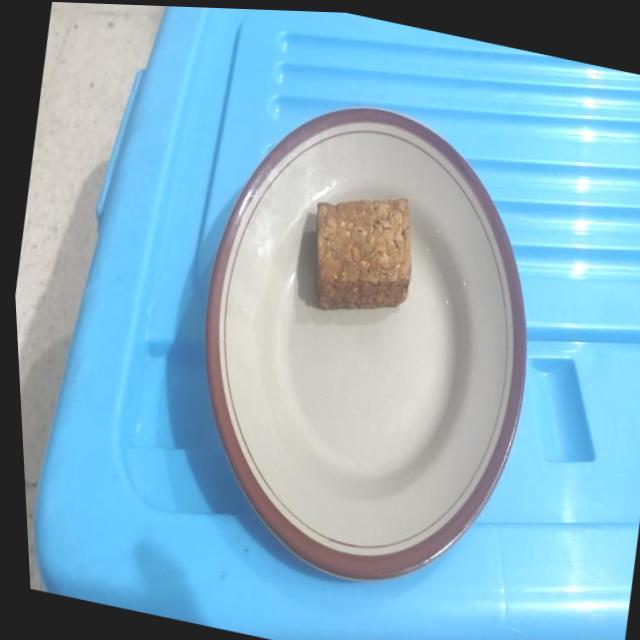tempe_goreng: (316, 198, 410, 308)
